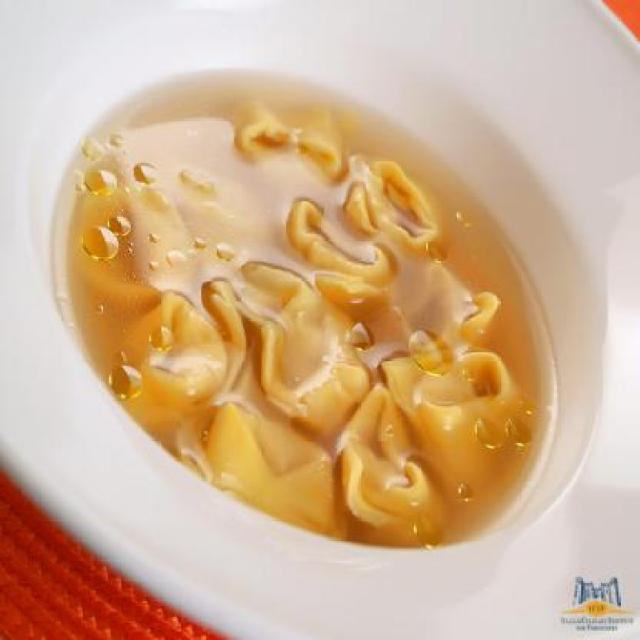Tortellini in broth: (91, 86, 577, 549)
